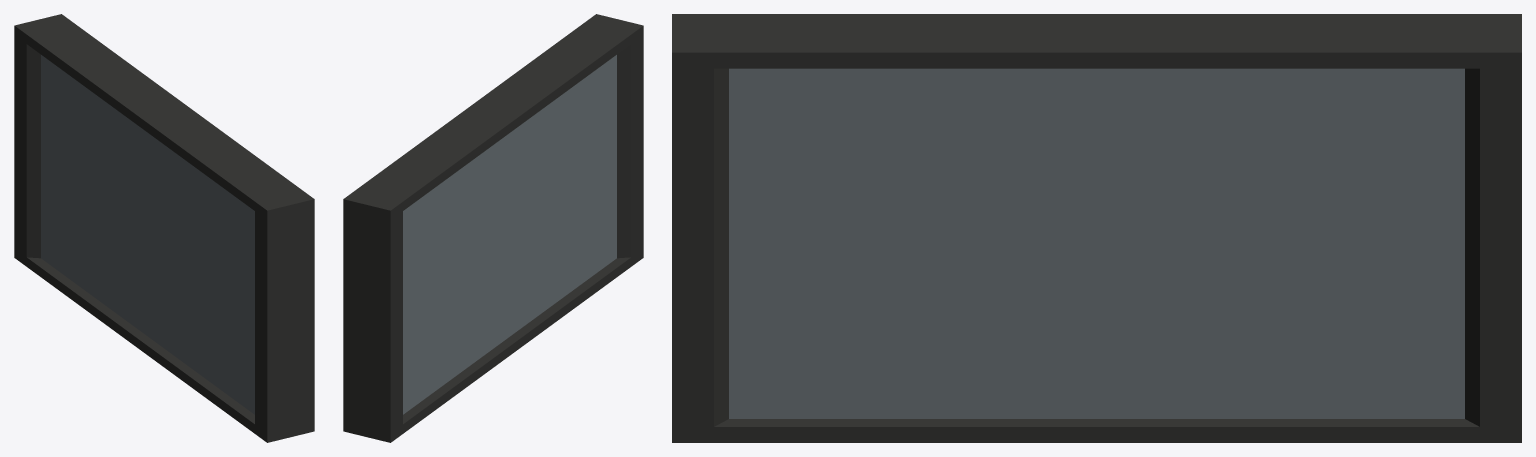
File: PlacaLowPoly.fbx
3 renders of one model, left to right at view 1: azimuth 30°, elevation 25°; view 2: azimuth 150°, elevation 25°; view 3: azimuth 270°, elevation 25°, orthographic. The views are drawn at different scales.
Visible parts, largest first — view 1: Cube; view 2: Cube; view 3: Cube.
Part boxes in pixels (x1,y1,x2,y2): Cube: (14, 14, 314, 442); Cube: (343, 14, 643, 442); Cube: (672, 14, 1521, 442).
Size of the model in its own units: 22.46 by 105 by 208.
